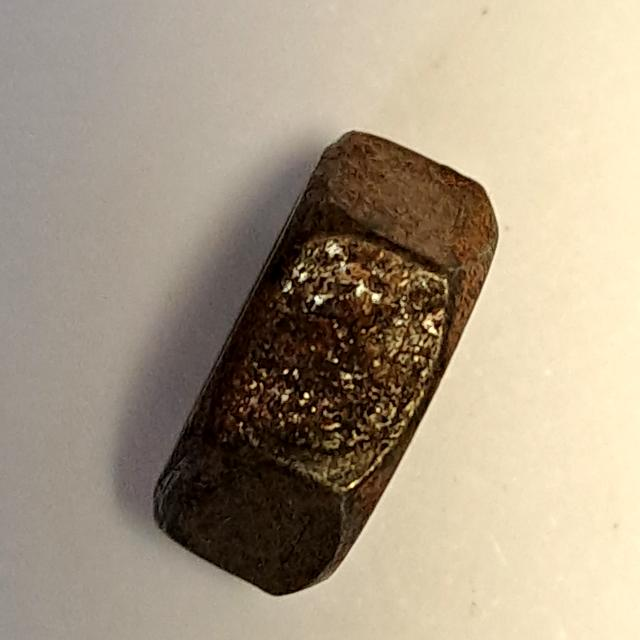Side_Rust: (139, 119, 513, 614)
